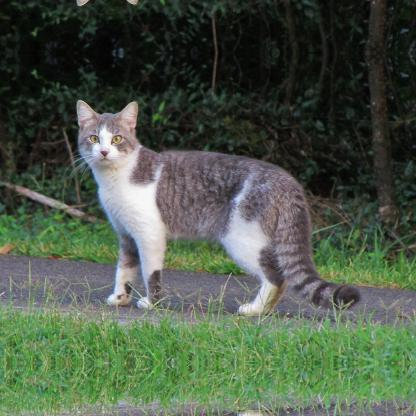Cat: (64, 94, 386, 324)
